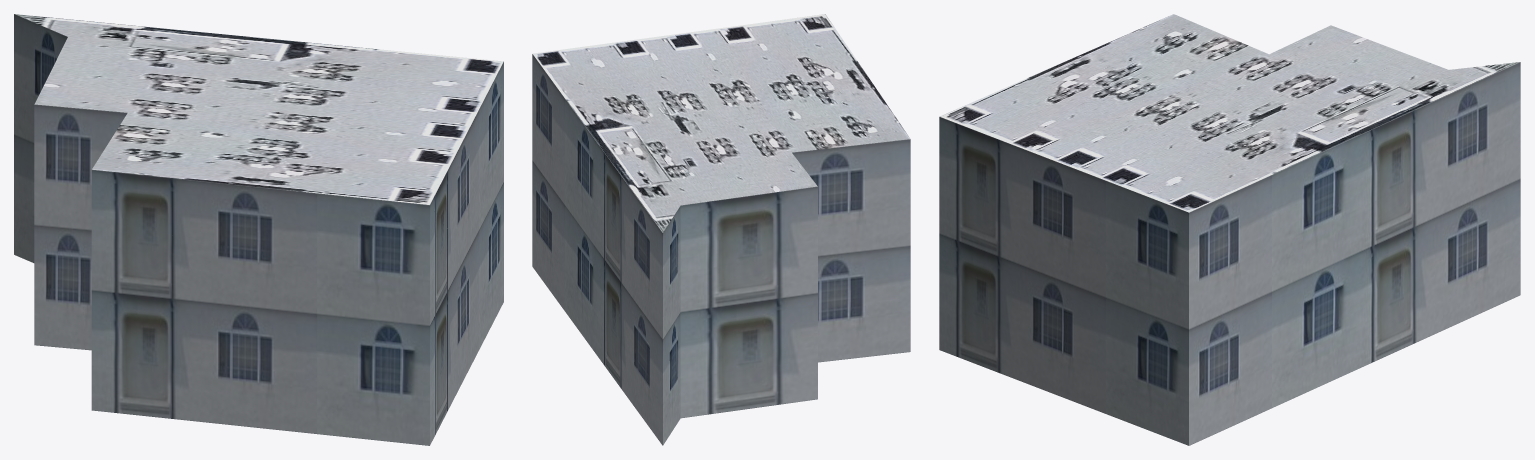
File: ResTex__5126.fbx
The picture shows the model from 3 angles, left to right: view 1: azimuth 30°, elevation 25°; view 2: azimuth 150°, elevation 25°; view 3: azimuth 270°, elevation 25°; orthographic projection. The views are drawn at different scales.
Visible parts, largest first — view 1: CityEngineMaterial_17_m, CityEngineMaterial_2_m; view 2: CityEngineMaterial_17_m, CityEngineMaterial_2_m; view 3: CityEngineMaterial_17_m, CityEngineMaterial_2_m.
Boxes of the visible parts, box(x1,y1,x2,y2) form: CityEngineMaterial_17_m: box(14, 14, 503, 445); CityEngineMaterial_2_m: box(15, 14, 503, 204); CityEngineMaterial_17_m: box(532, 54, 910, 445); CityEngineMaterial_2_m: box(532, 14, 910, 232); CityEngineMaterial_17_m: box(939, 62, 1520, 445); CityEngineMaterial_2_m: box(940, 14, 1519, 212).
Bounding box in the file's own units: 10.95 × 6 × 13.54.
2 materials, 2 textured.
